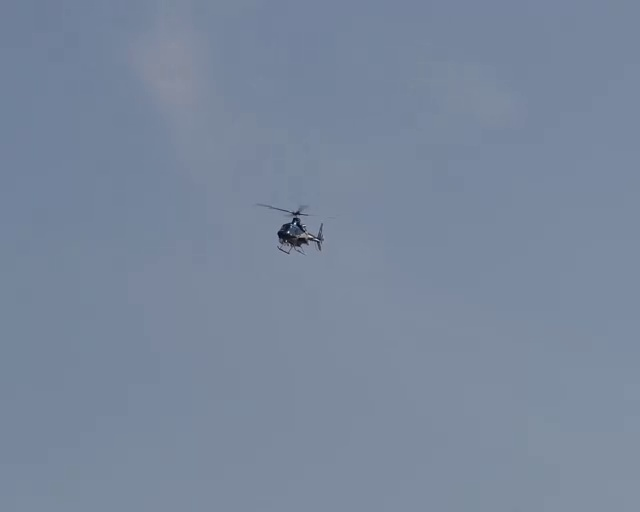HELICOPTER: (254, 202, 335, 255)
